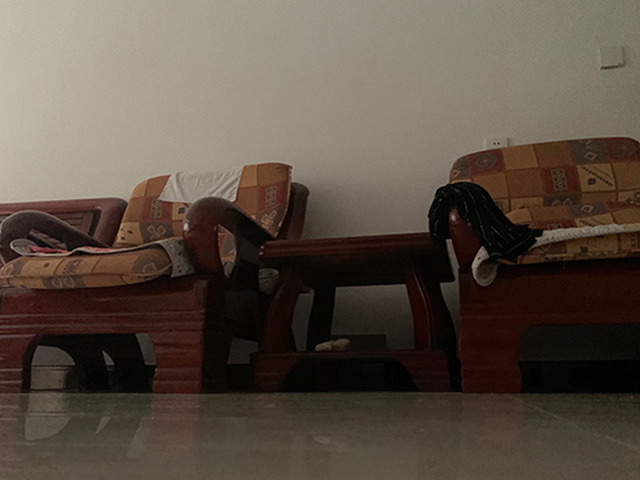sofa: (1, 161, 311, 394), (446, 136, 640, 396)
table: (250, 231, 460, 391)
